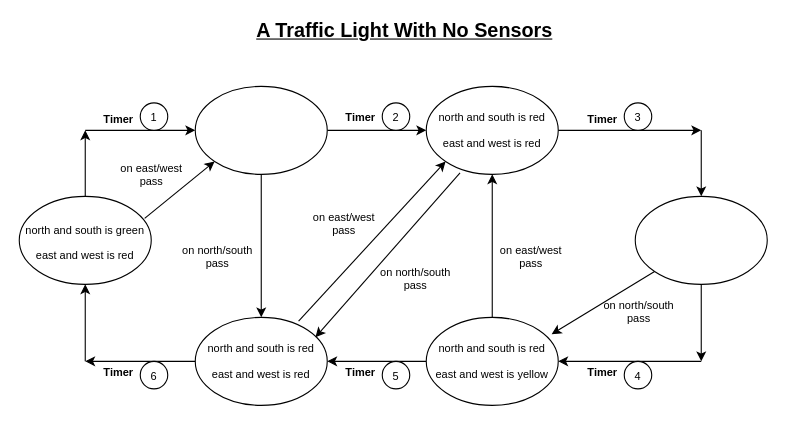
This 787x425 diagram has some shape labels left out. The centre of each missing label's shape, as x and y in pixels:
north and south is red east and west is green: (x=700, y=239)
north and south is yellow east and west is red: (x=260, y=129)
